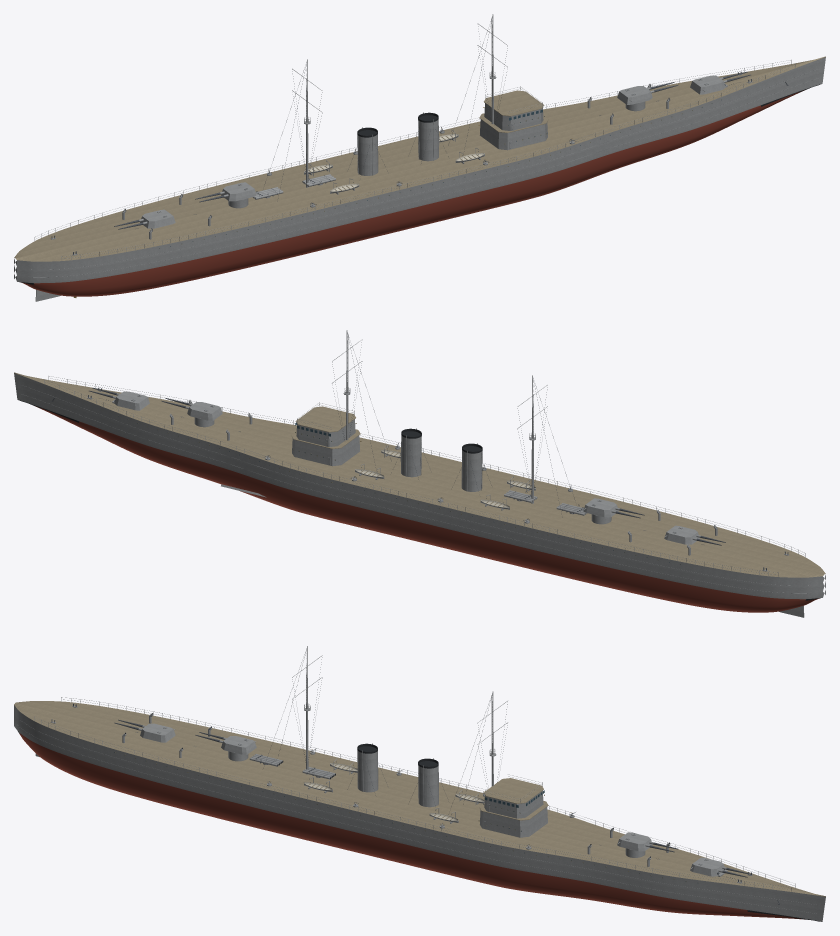
Rendered from mare_ca30.glb.
3 views of the same model, one above another, from view 1: azimuth 30°, elevation 25°; view 2: azimuth 150°, elevation 25°; view 3: azimuth 330°, elevation 25° (orthographic).
Visible parts, largest first — view 1: Mediterraneo cruiser; view 2: Mediterraneo cruiser; view 3: Mediterraneo cruiser.
Boxes of the visible parts, box(x1,y1,x2,y2) form: Mediterraneo cruiser: box(14, 14, 825, 301); Mediterraneo cruiser: box(14, 330, 825, 617); Mediterraneo cruiser: box(14, 646, 825, 921).
Size of the model in its own units: 195 by 40.99 by 21.09.
Materials: 8 (2 with a texture image).
